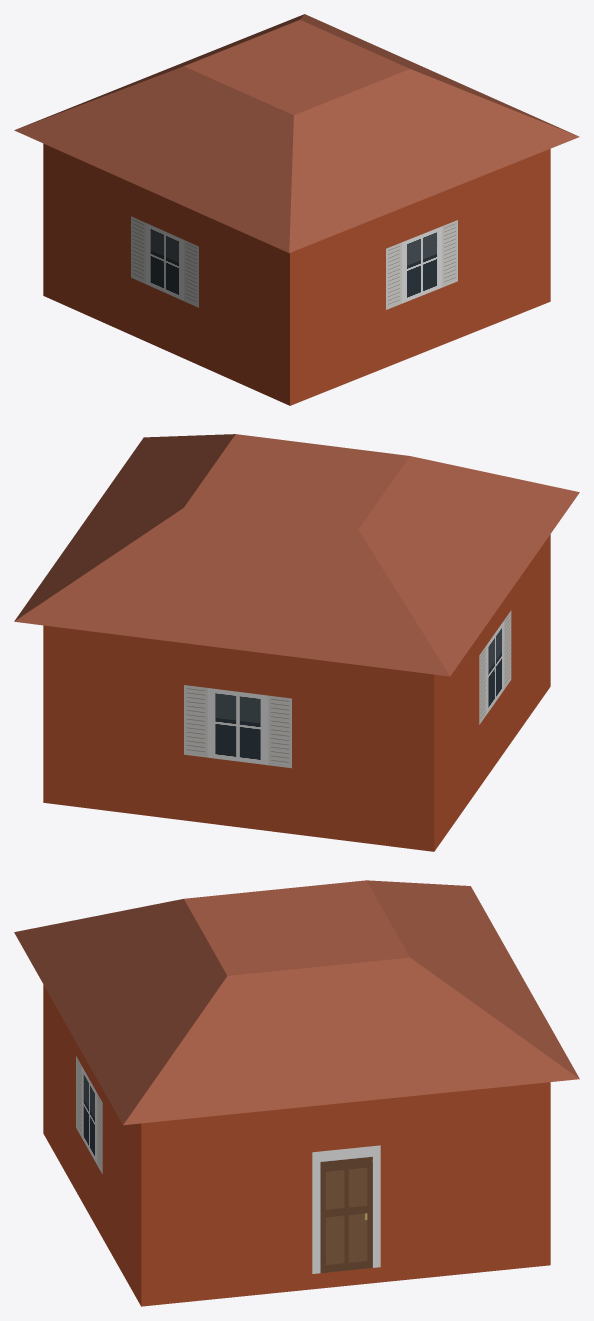
Rendered from msb_sannicolas_14_24.glb.
3 views of the same model, one above another, from view 1: azimuth 30°, elevation 25°; view 2: azimuth 150°, elevation 25°; view 3: azimuth 270°, elevation 25° (orthographic). The views are drawn at different scales.
Visible parts, largest first — view 1: msb_sannicolas_14_24_lod0; view 2: msb_sannicolas_14_24_lod0; view 3: msb_sannicolas_14_24_lod0.
Part boxes in pixels (x1,y1,x2,y2): msb_sannicolas_14_24_lod0: (14,14,579,405); msb_sannicolas_14_24_lod0: (14,434,579,851); msb_sannicolas_14_24_lod0: (14,880,579,1306).
Size of what is drawn, in the model's own units: 9.26 by 4.9 by 9.26.
Materials: 2 (1 with a texture image).
